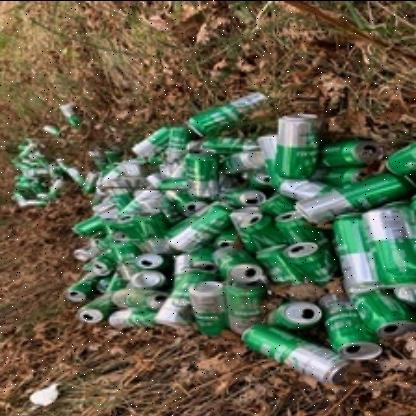Can: (295, 166, 415, 221), (240, 327, 349, 385), (360, 200, 416, 302), (326, 213, 384, 299), (340, 276, 416, 340), (316, 292, 382, 358), (184, 90, 276, 136), (164, 205, 230, 253), (275, 112, 317, 180), (282, 238, 338, 284), (190, 278, 228, 338), (223, 280, 263, 335), (213, 245, 267, 284), (316, 136, 380, 166), (263, 300, 325, 330), (76, 292, 116, 324)
